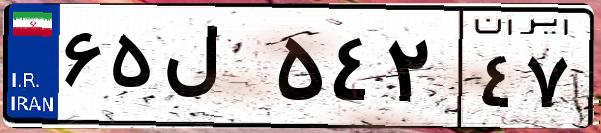2: (385, 28, 445, 110)
4: (330, 28, 385, 110), (475, 38, 525, 113)
5: (270, 28, 330, 110), (110, 28, 158, 98)
6: (57, 26, 110, 100)
7: (525, 38, 570, 115)
ل: (158, 20, 270, 120)
